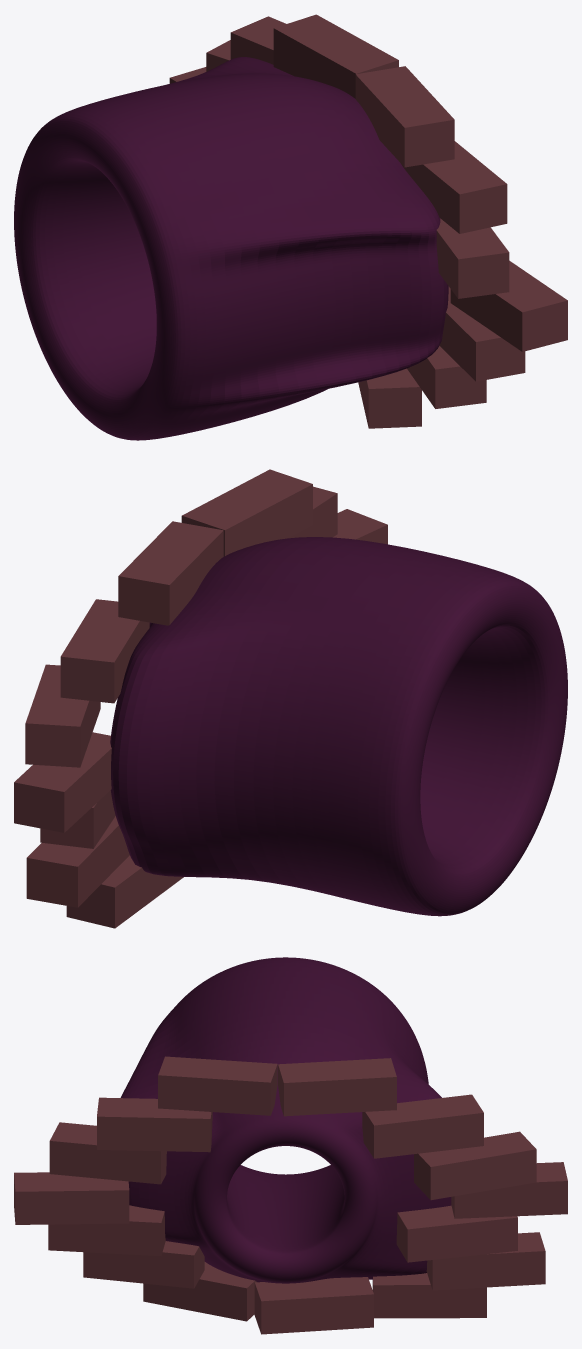
Rendered from Spawner.fbx.
3 renders of one model, top to bottom at view 1: azimuth 30°, elevation 25°; view 2: azimuth 150°, elevation 25°; view 3: azimuth 270°, elevation 25°, orthographic. The views are drawn at different scales.
Visible parts, largest first — view 1: Torus, Brick.001, Brick.002, Brick.003, Brick.000, Brick.007, Brick.011, Brick.006, Brick.005, Brick.004; view 2: Torus, Brick.002, Brick.001, Brick.004, Brick.009, Brick.014, Brick.008, Brick.013, Brick.010, Brick.000, Brick.007; view 3: Torus, Brick.001, Brick.002, Brick.004, Brick.012, Brick.008, Brick.003, Brick.000, Brick.010, Brick.007, Brick.014, Brick.013 (+4 smaller).
Part boxes in pixels (<box>): Torus: <box>14,57,448,440</box>; Brick.001: <box>355,66,454,167</box>; Brick.002: <box>273,14,398,98</box>; Brick.003: <box>450,260,567,351</box>; Brick.000: <box>401,141,507,233</box>; Brick.007: <box>436,218,509,298</box>; Brick.011: <box>439,286,525,381</box>; Brick.006: <box>358,368,421,428</box>; Brick.005: <box>407,346,486,408</box>; Brick.004: <box>230,16,285,64</box>; Torus: <box>110,537,567,916</box>; Brick.002: <box>118,521,223,625</box>; Brick.001: <box>181,469,312,556</box>; Brick.004: <box>60,599,149,703</box>; Brick.009: <box>14,732,111,832</box>; Brick.014: <box>26,816,129,907</box>; Brick.008: <box>25,664,100,767</box>; Brick.013: <box>66,855,183,928</box>; Brick.010: <box>40,790,115,848</box>; Brick.000: <box>288,486,337,538</box>; Brick.007: <box>333,509,387,544</box>; Torus: <box>120,957,451,1283</box>; Brick.001: <box>158,1056,277,1115</box>; Brick.002: <box>278,1058,396,1116</box>; Brick.004: <box>362,1094,483,1158</box>; Brick.012: <box>254,1277,373,1334</box>; Brick.008: <box>414,1131,536,1200</box>; Brick.003: <box>14,1172,129,1224</box>; Brick.000: <box>97,1097,212,1152</box>; Brick.010: <box>396,1205,517,1262</box>; Brick.007: <box>49,1122,166,1184</box>; Brick.014: <box>426,1232,545,1290</box>; Brick.013: <box>372,1273,486,1318</box>.
Size of the model in its own units: 569 by 495 by 950.
